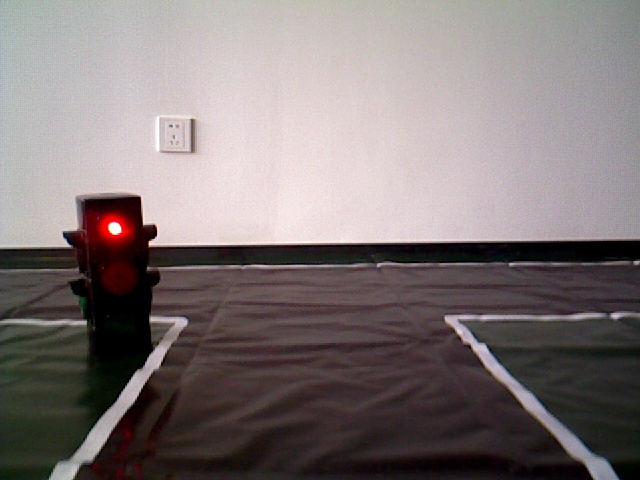red: (72, 199, 149, 349)
